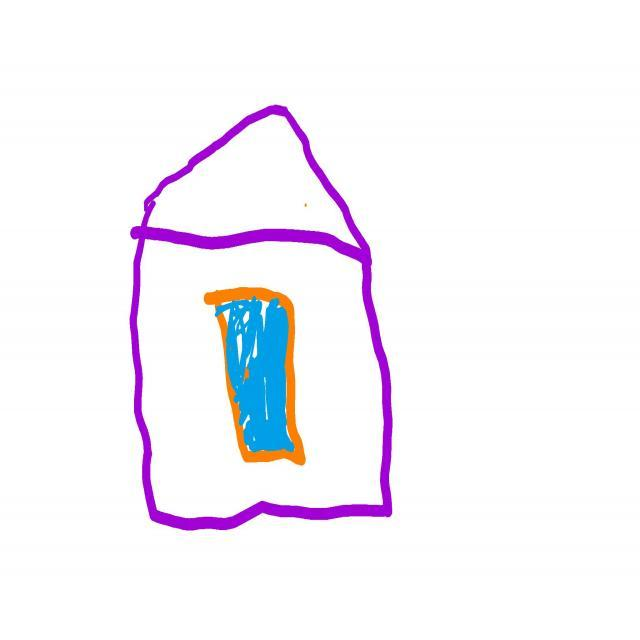house: (130, 106, 392, 530)
roof: (132, 96, 376, 255)
wall: (132, 235, 395, 523)
window: (210, 286, 304, 466)
